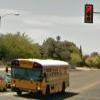Bus: (8, 55, 72, 94)
